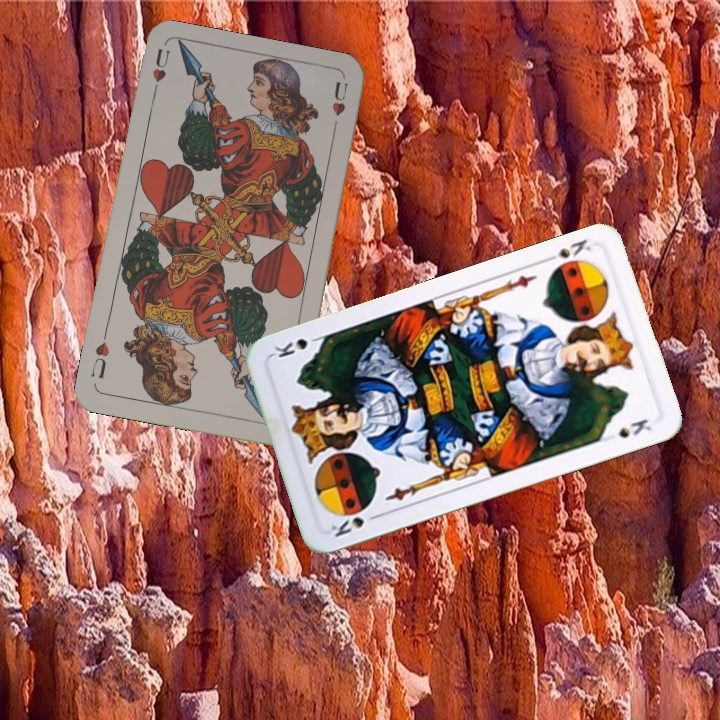HU: (147, 44, 173, 102)
SK: (327, 510, 383, 540), (540, 235, 594, 266)
